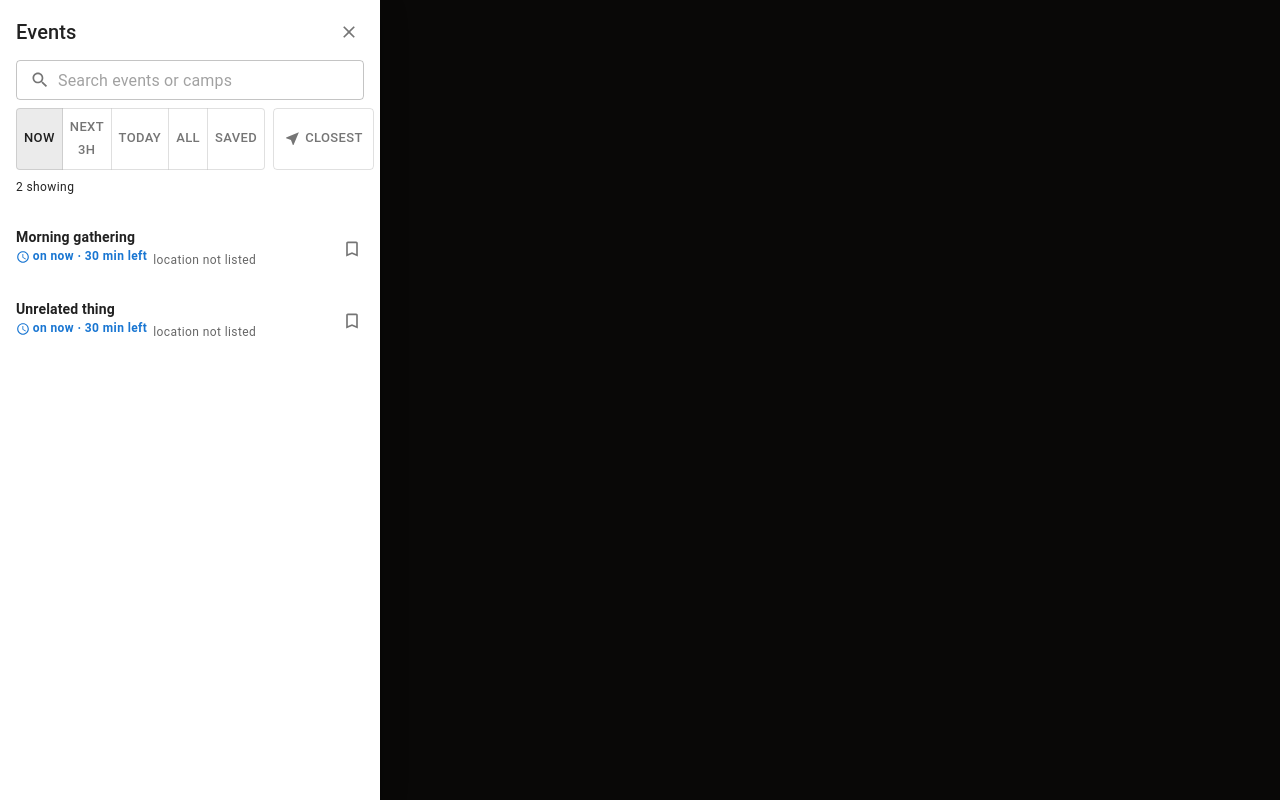
Test: EventsPanel · description search (#64) › finds an event by a word that only lives in its description
Type "coffee" into the field with placeholder "Search events or camps" at (211, 80), box [58,60,364,100]
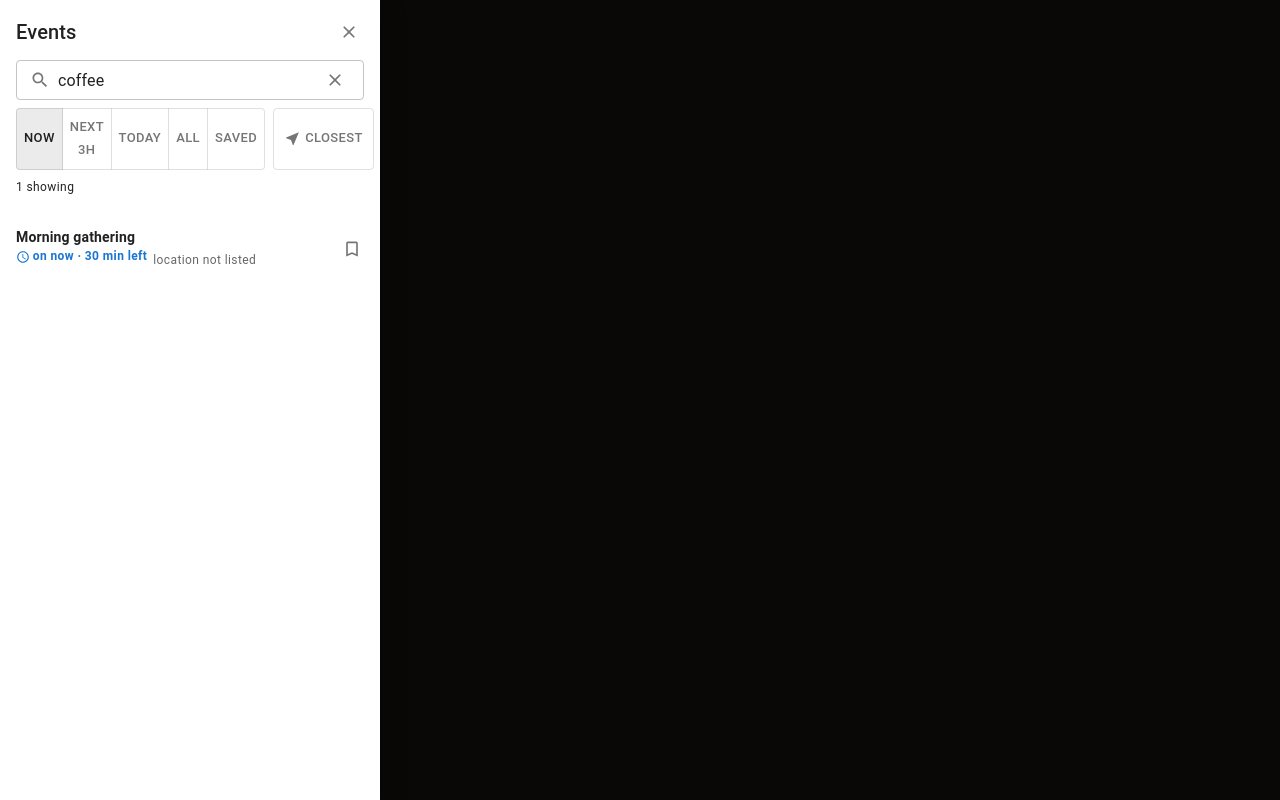
Expected: the text "Morning gathering" is shown, [16,229,135,245]
Now the button "Unrelated thing" is gone
